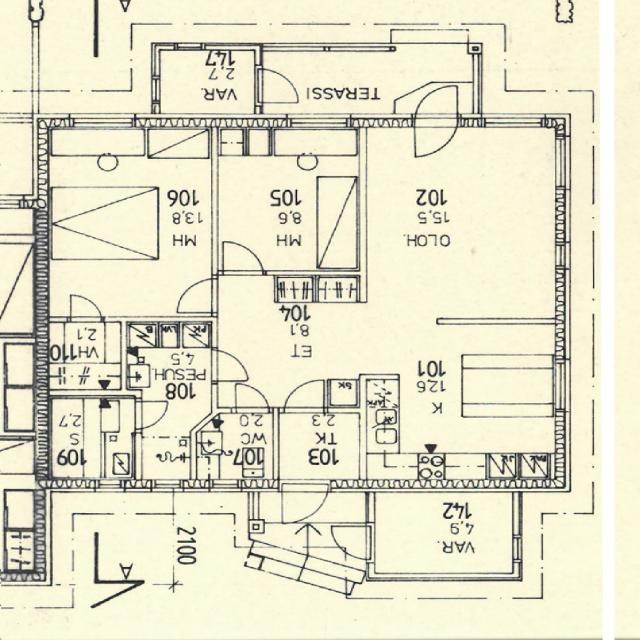door: (282, 479, 328, 530), (415, 78, 457, 127), (415, 114, 457, 162), (326, 526, 374, 560), (172, 278, 219, 312), (254, 68, 301, 102), (284, 373, 324, 412), (223, 236, 262, 275), (212, 350, 254, 380), (236, 379, 268, 412), (135, 402, 174, 428), (70, 290, 101, 322)
